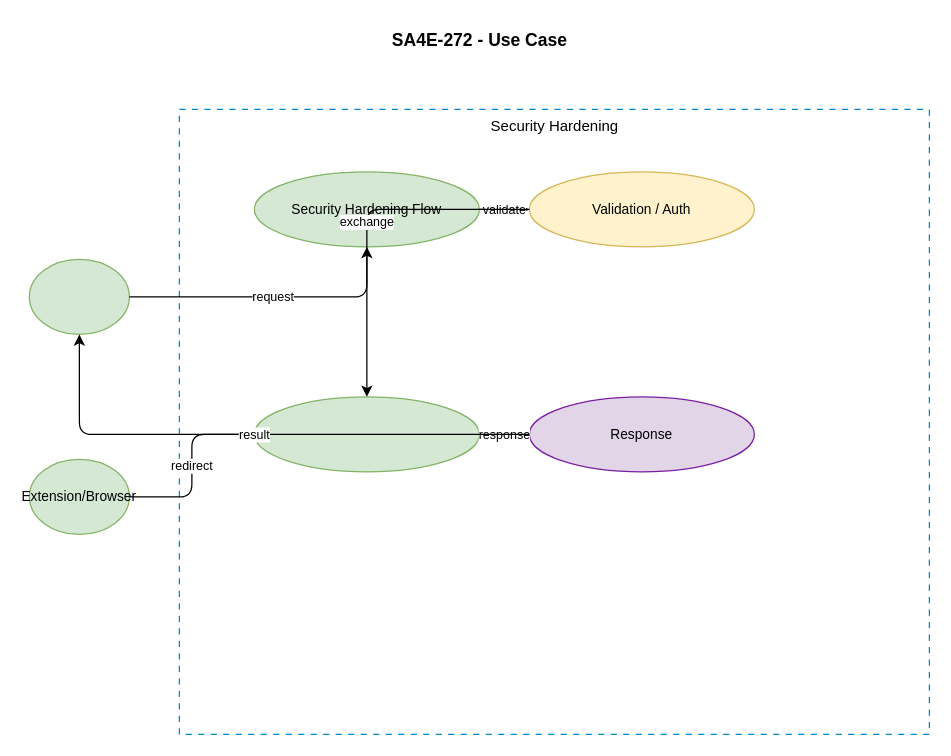
Some shapes in this 951 by 756 pixel diagram are drawn without their labels. The shapes that lost their labels are listed below. From the top down, each one's box as (x1, y1, x2, y2) in pixels, then its label:
(28, 258, 129, 334): API Client
(253, 396, 479, 472): Token Exchange
